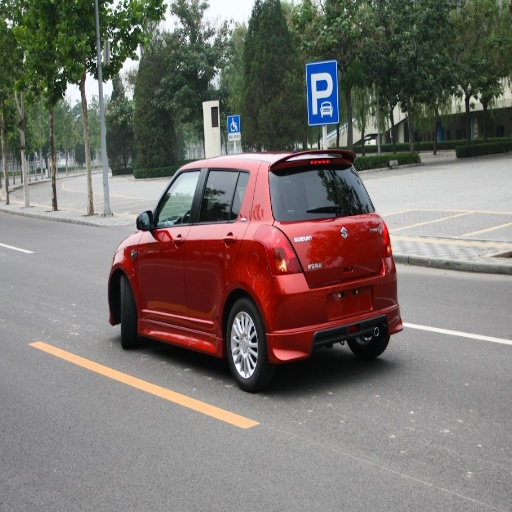back_bumper: (268, 271, 402, 355)
back_glass: (273, 165, 367, 220)
trunk: (290, 215, 383, 291)
